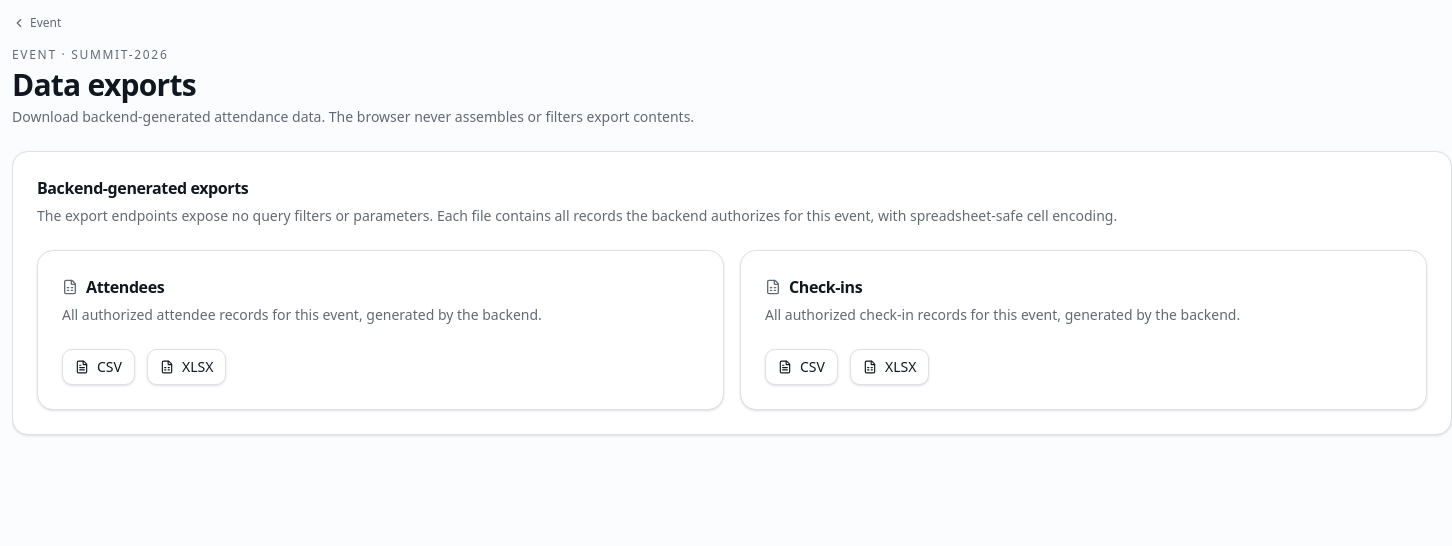
Test case: CSV and XLSX exports › shows 401 export failures
Click the button with aria-label "Download attendees CSV". click: (98, 367)
box: [62,349,135,385]
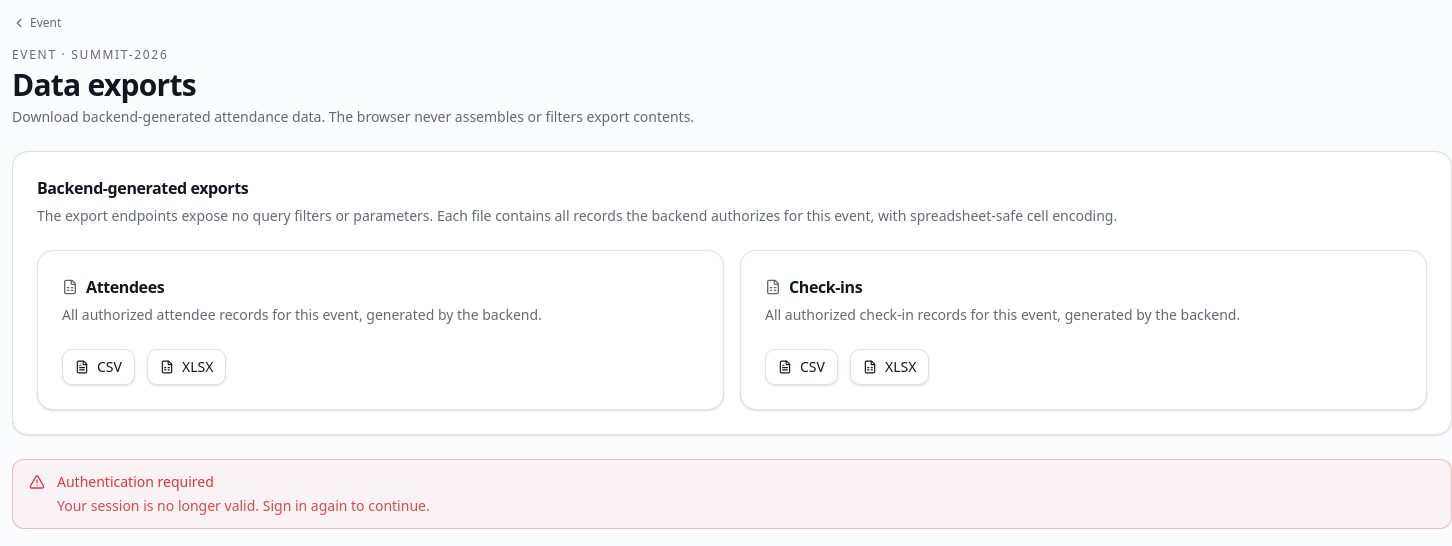
Expected: the text "Authentication required" is shown, [57,472,214,491]
Expected: the text "Your session is no longer valid. Sign in again to continue." is shown, [57,496,430,515]
